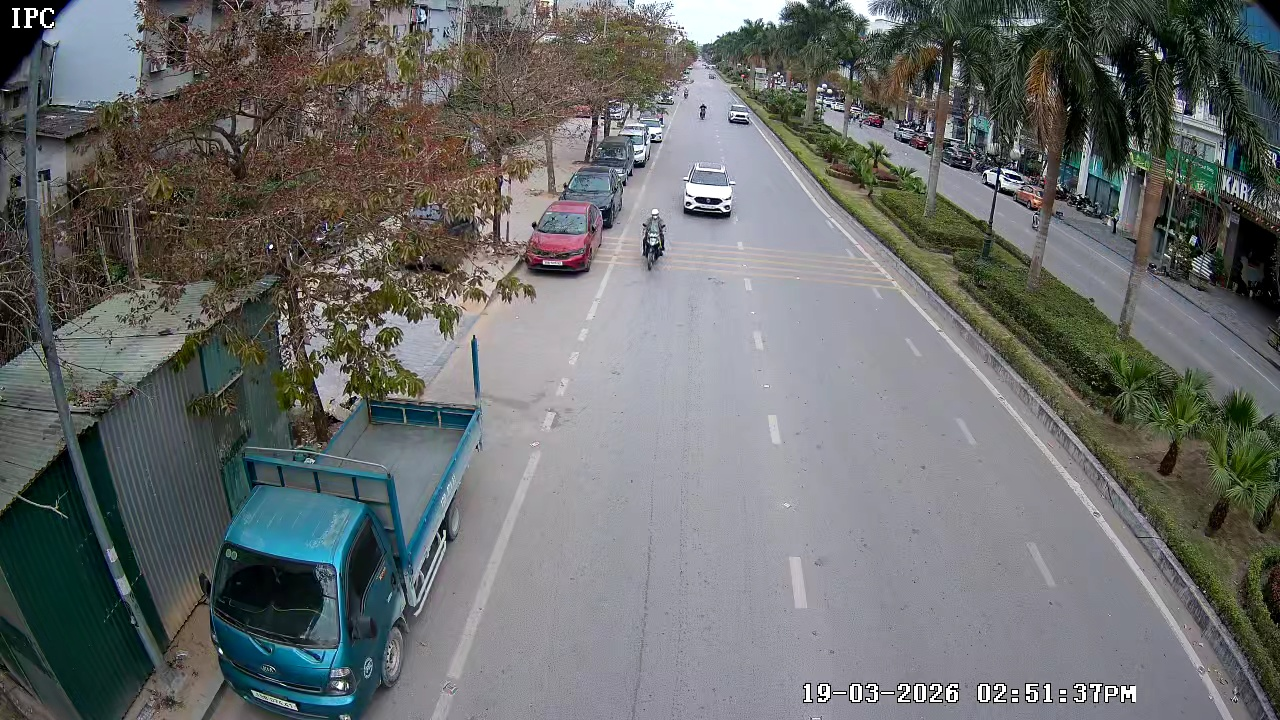car: (524, 199, 602, 276), (561, 168, 622, 227), (682, 162, 737, 219), (728, 101, 754, 127)
motorbike: (639, 207, 668, 272)
